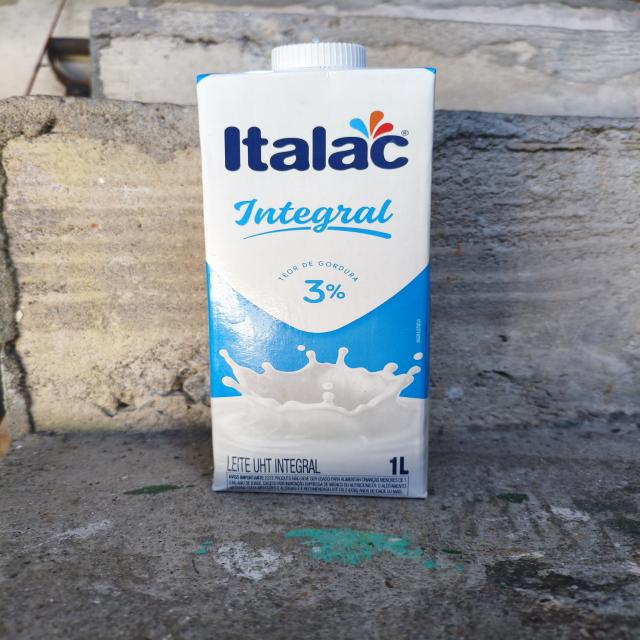Caixa de Leite: (187, 40, 441, 499)
